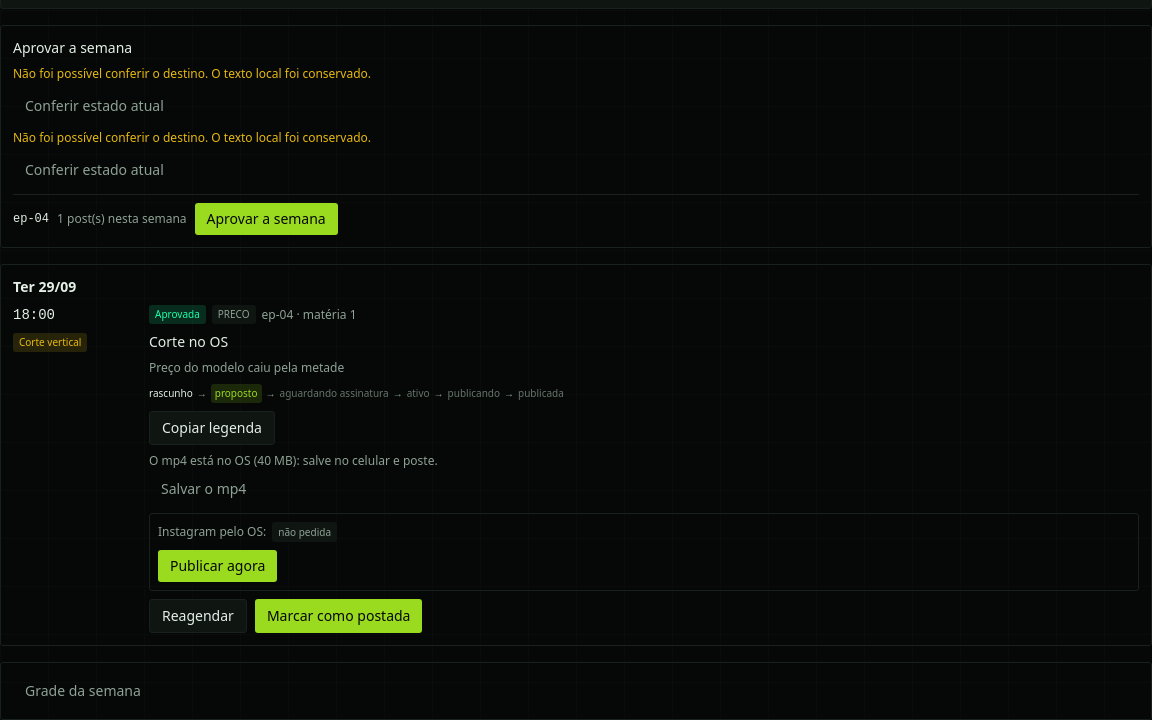
a aba Semana › MD4: no celular o mp4 vai à folha de compartilhar, como as imagens (Fotos ou o Instagram); se ela pedir outro toque, fica pronto
(page scrolled)
Click the button "Salvar o mp4" at (204, 489), box [149,473,258,505]
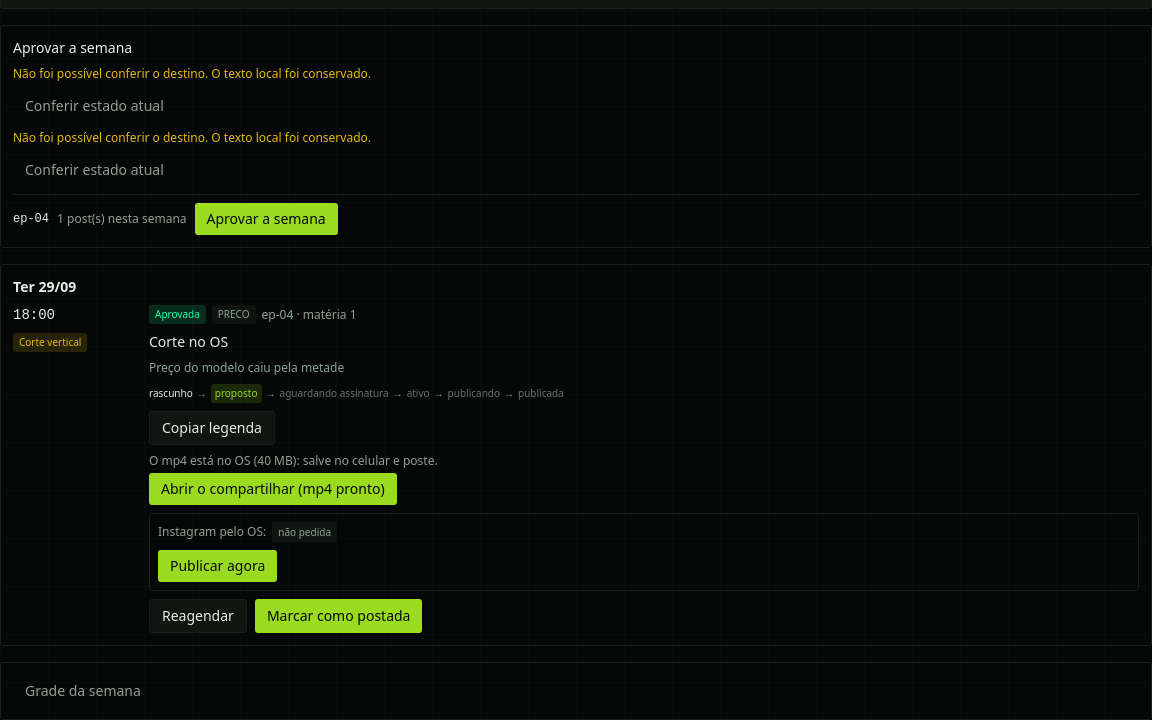
Click the button "Abrir o compartilhar (mp4 pronto)" at (273, 489), box [149,473,397,505]
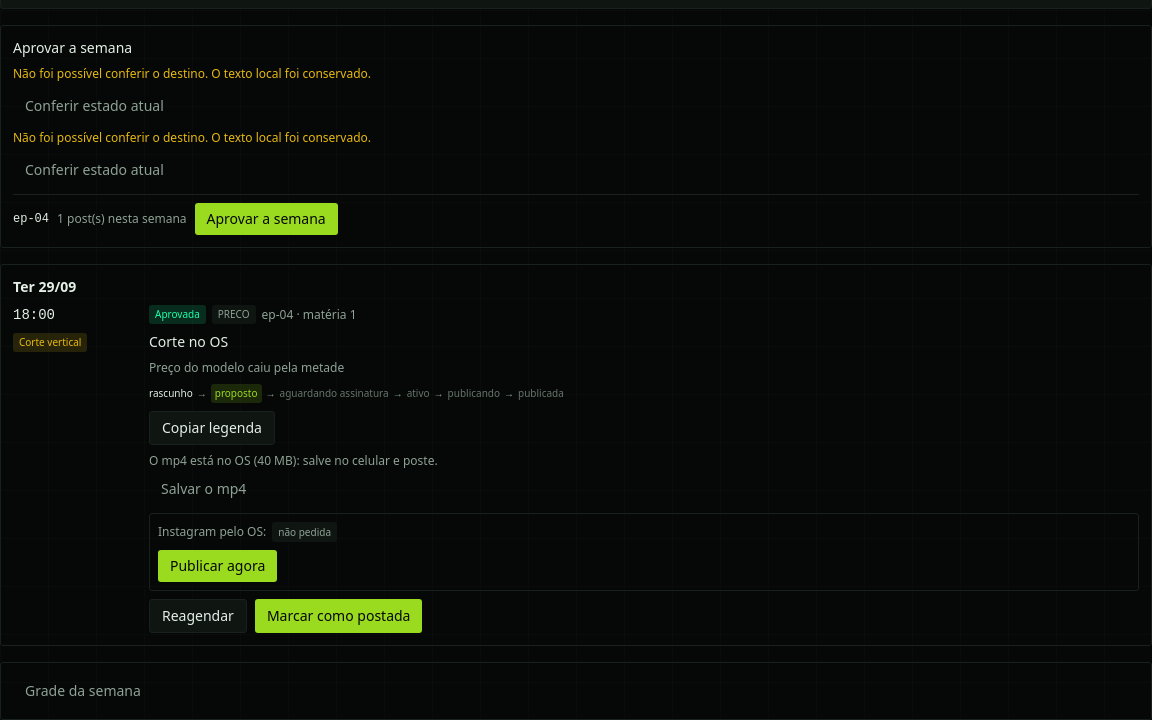
Result: the button "Salvar o mp4" is shown at [149,473,258,505]
